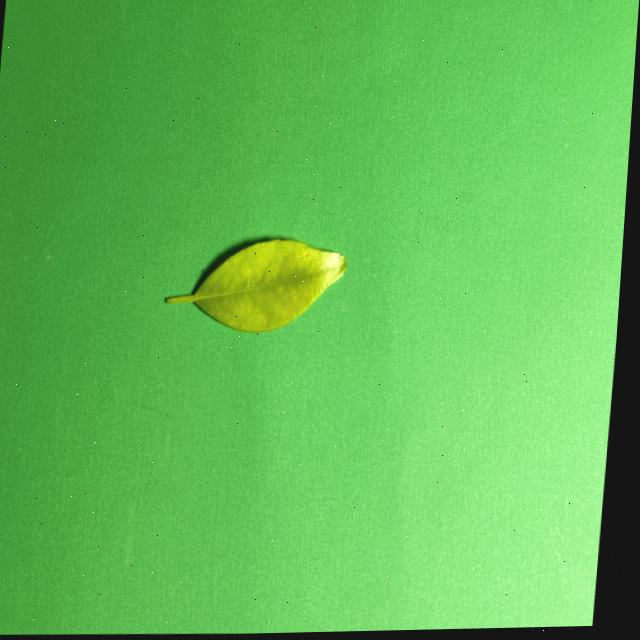greening: (166, 238, 346, 331)
